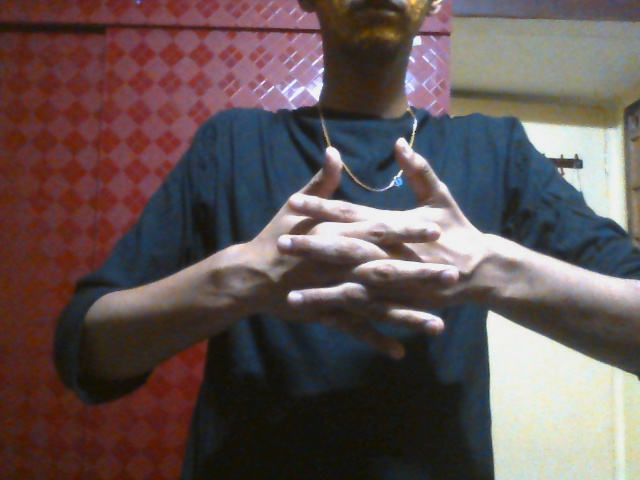W: (239, 138, 487, 383)
